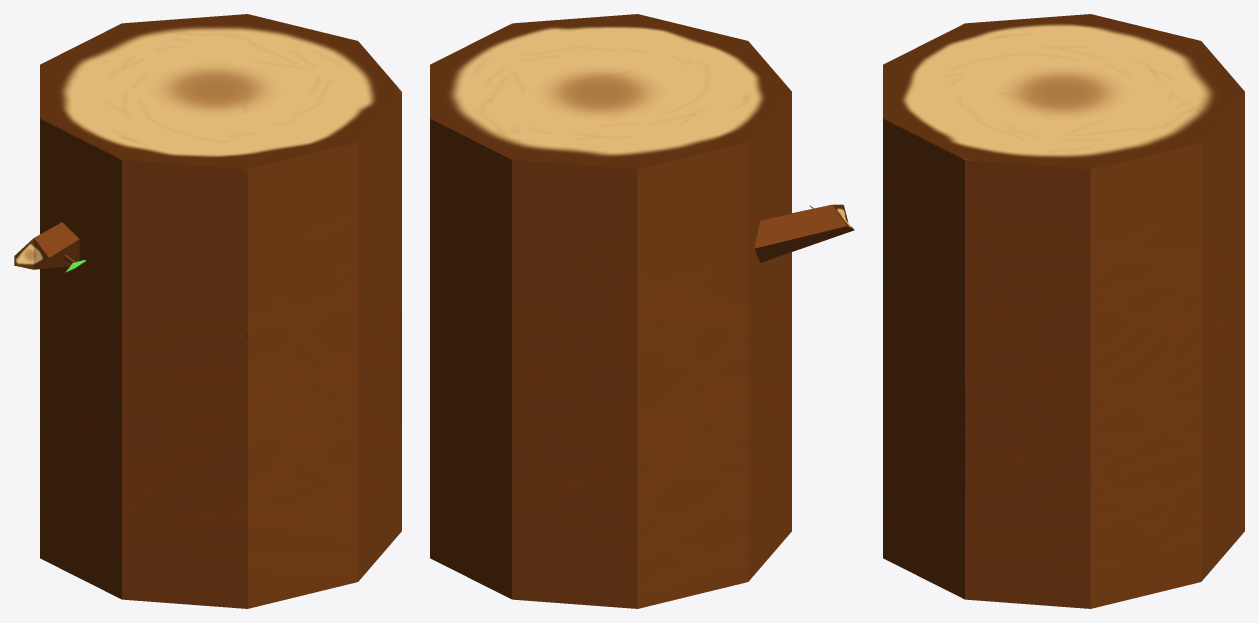
Rendered from wood Full.fbx.
The picture shows the model from 3 angles, left to right: view 1: azimuth 30°, elevation 25°; view 2: azimuth 150°, elevation 25°; view 3: azimuth 270°, elevation 25°; orthographic projection.
Visible parts, largest first — view 1: Wood; view 2: Wood; view 3: Wood.
Part boxes in pixels (left/top/right/bottom): Wood: left=14, top=14, right=401, bottom=608; Wood: left=430, top=14, right=854, bottom=608; Wood: left=883, top=14, right=1244, bottom=608.
Bounding box in the file's own units: 59.48 × 65 × 48.49.
1 material, 1 textured.
